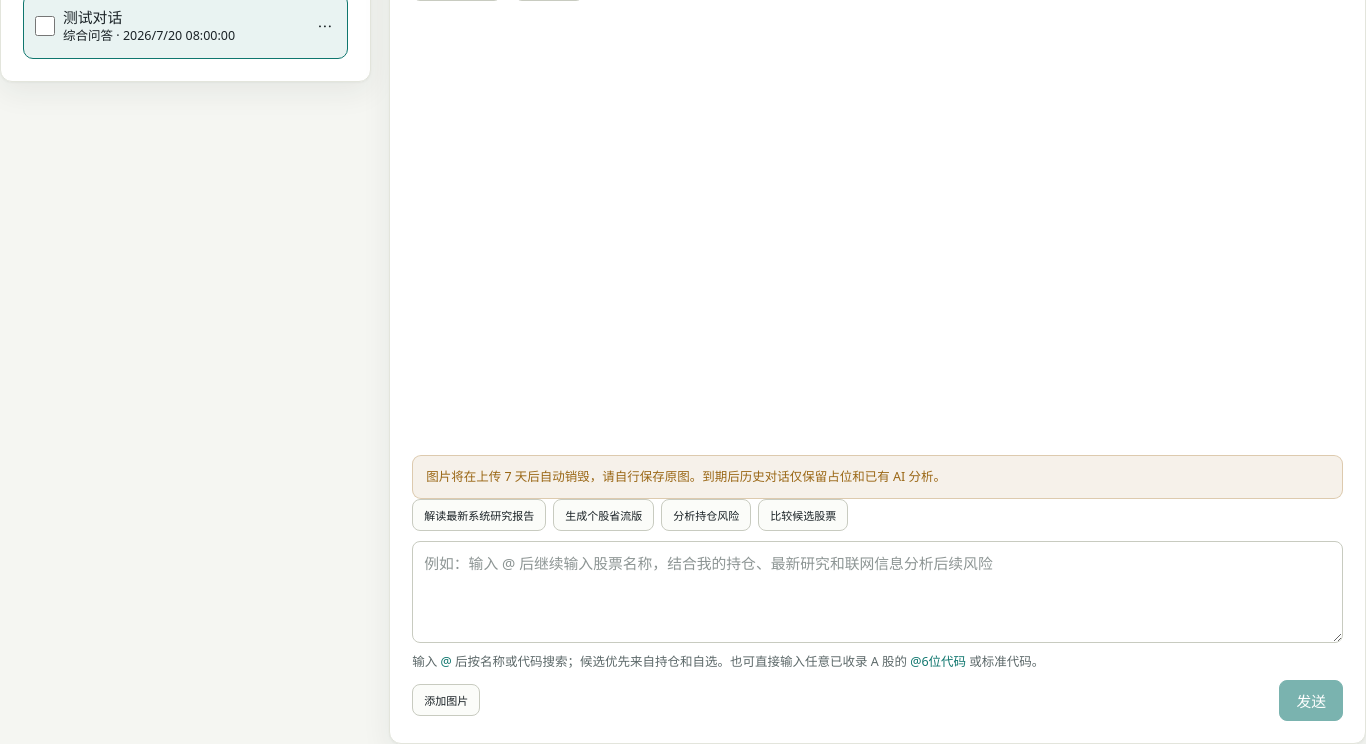
Scenario: chat safety and observability › matches personal stocks after @ and inserts the selected stock name
The image size is (1366, 744).
(page scrolled)
Type "分析 @茅" into the text box with placeholder "例如：输入 @ 后继续输入股票名称，结合我的持仓、最新研究和联网信息分析后续风险" at coordinates (878, 592), box [412,541,1343,643]
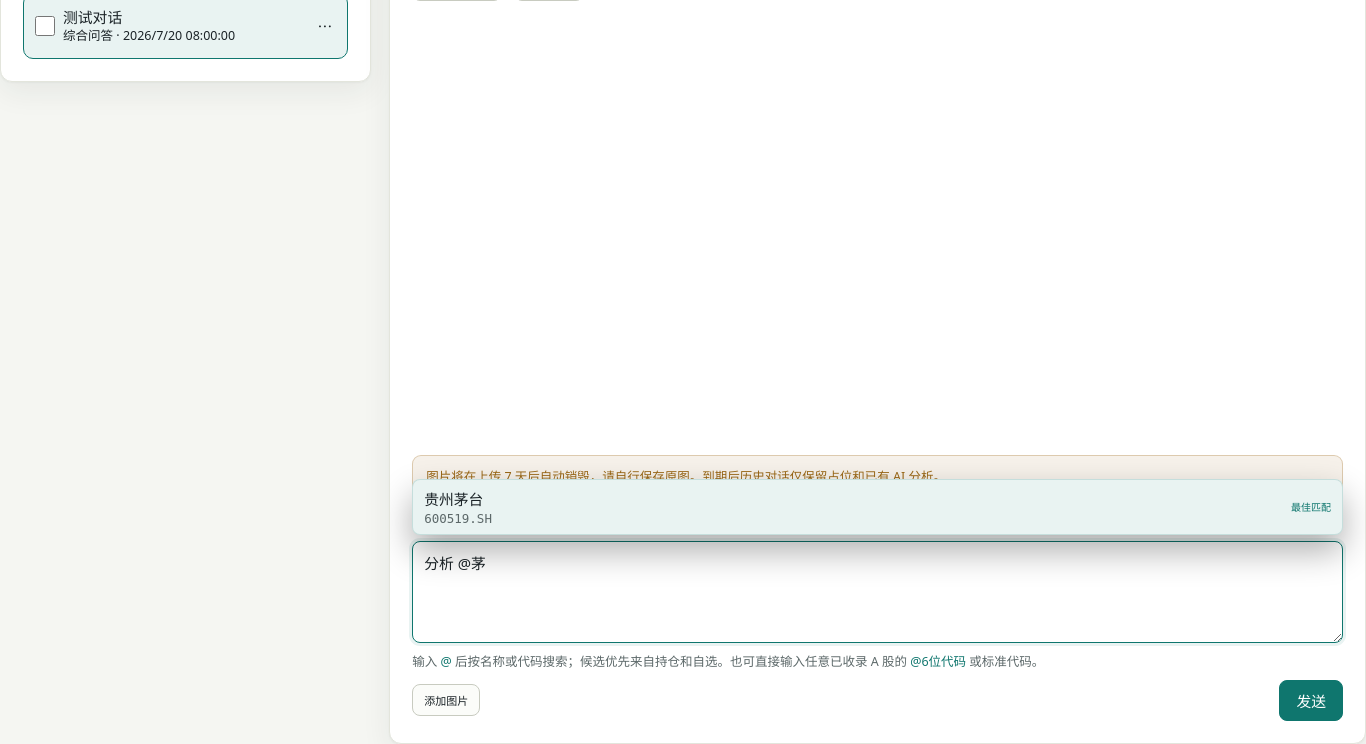
Click the option "贵州茅台 600519.SH 最佳匹配" at coordinates (454, 499), box [413,480,1342,534]
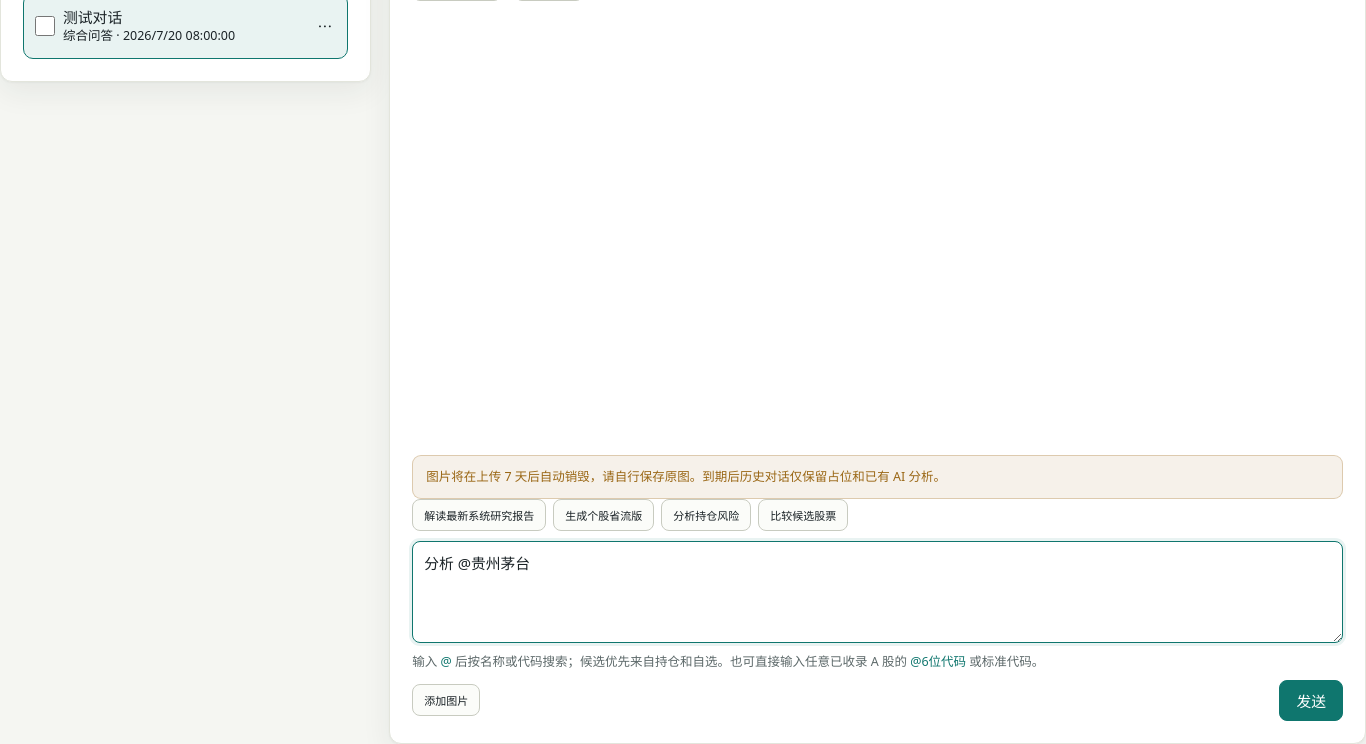
Check: the text "输入 @ 后按名称或代码搜索；候选优先来自持仓和自选。也可直接输入任意已收录 A 股的 @6位代码 或标准代码。" is shown, box [412,653,1044,670]
Check: the text box with placeholder "例如：输入 @ 后继续输入股票名称，结合我的持仓、最新研究和联网信息分析后续风险" holds "分析 @贵州茅台 ", box [412,541,1343,643]
